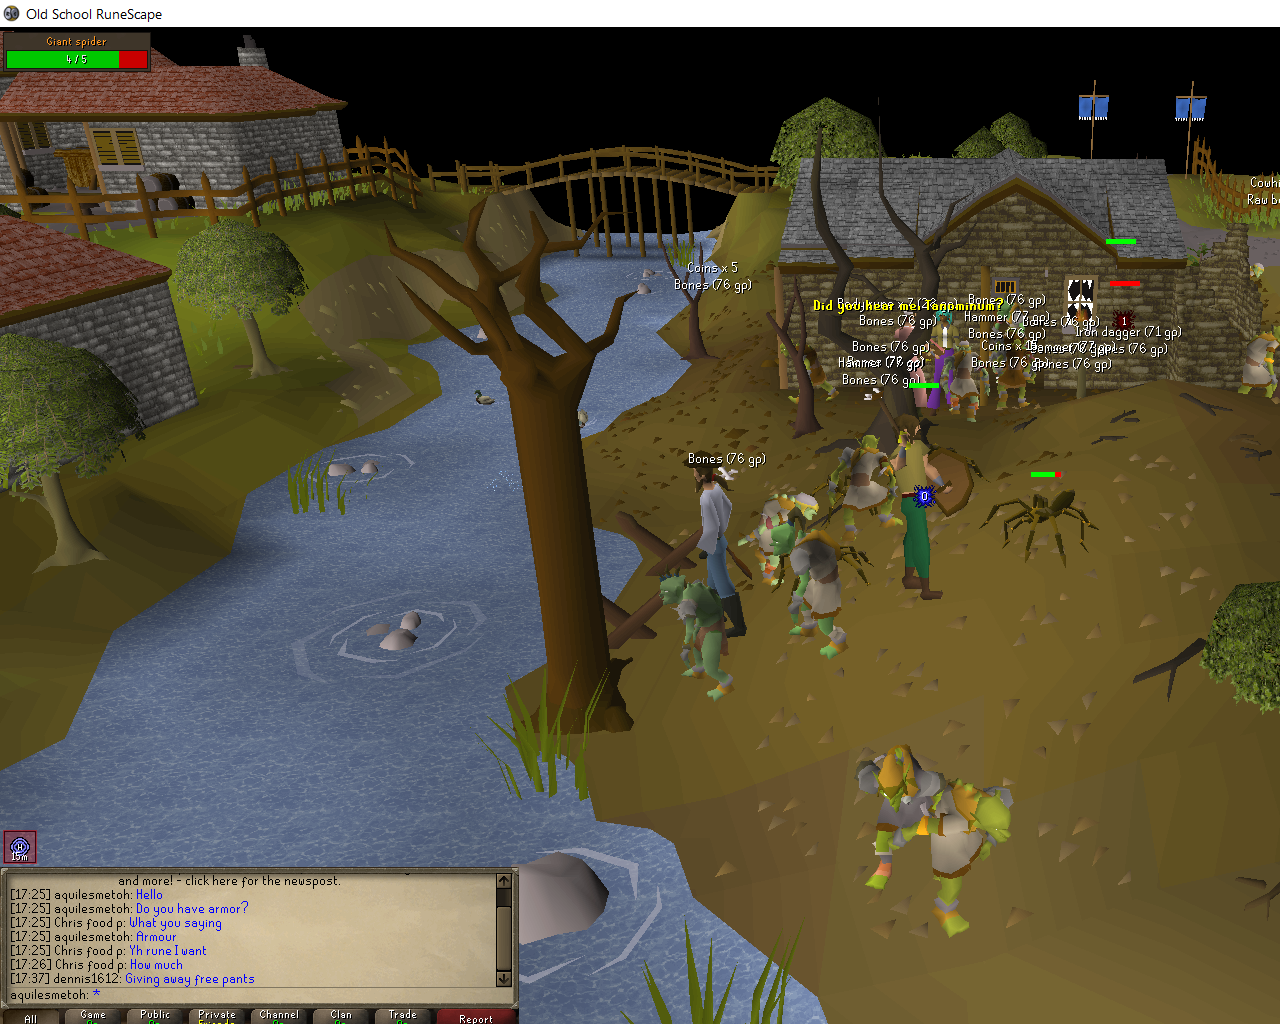Goblin: (904, 774, 1032, 944), (843, 747, 955, 897), (759, 511, 864, 664), (653, 571, 743, 709), (821, 430, 908, 540), (739, 483, 816, 595), (938, 339, 1001, 425), (990, 332, 1048, 418), (1233, 321, 1280, 404)
